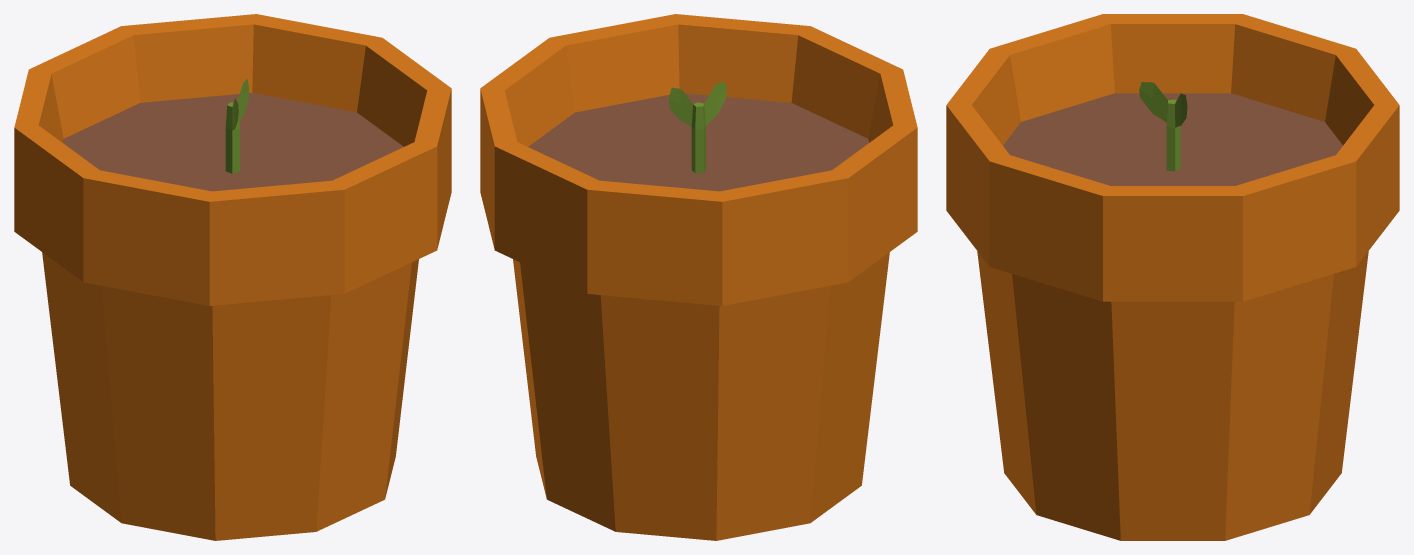
Rendered from flowerpot_sprout.glb.
The picture shows the model from 3 angles, left to right: view 1: azimuth 30°, elevation 25°; view 2: azimuth 150°, elevation 25°; view 3: azimuth 270°, elevation 25°; orthographic projection.
Visible parts, largest first — view 1: flowerpot_sprout; view 2: flowerpot_sprout; view 3: flowerpot_sprout.
Part boxes in pixels (<box>): flowerpot_sprout: <box>14,14,451,540</box>; flowerpot_sprout: <box>480,14,917,540</box>; flowerpot_sprout: <box>946,14,1399,540</box>.
Bounding box in the file's own units: 2.14 × 2.13 × 2.25.
Materials: 1 (1 with a texture image).
